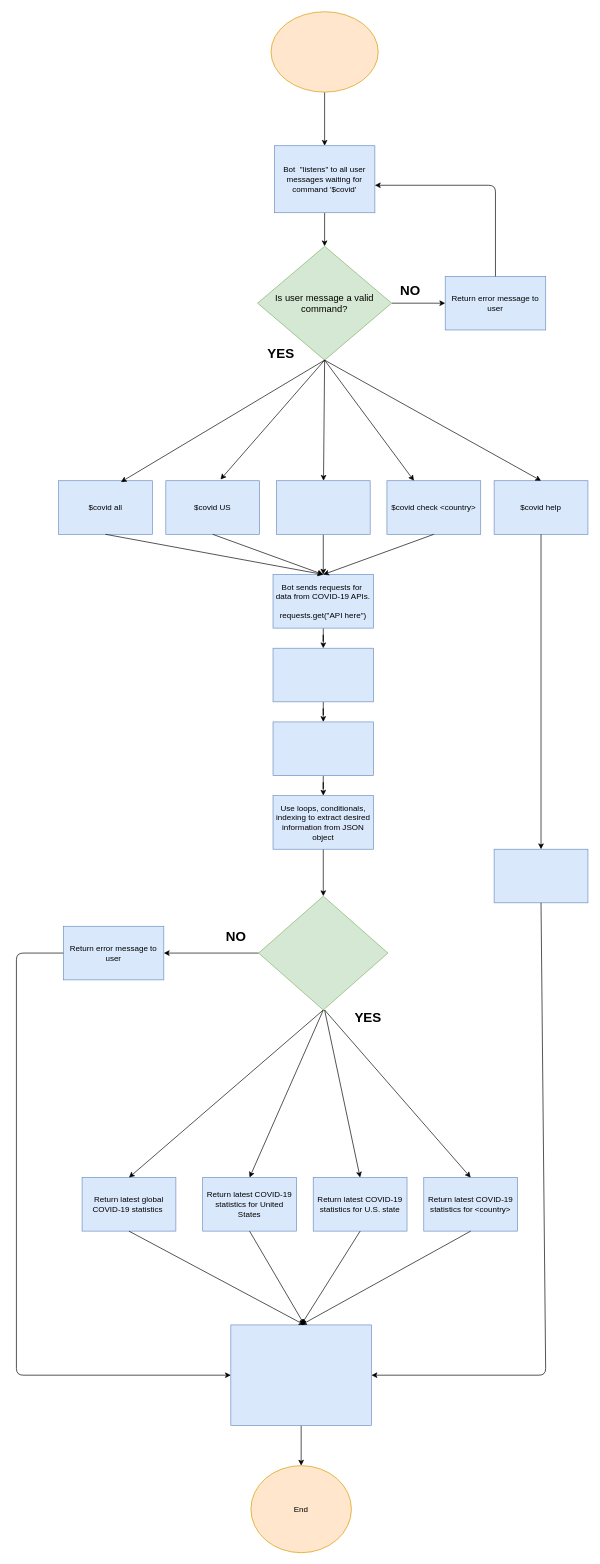
Image size: 600x1564. Some labels were removed from this diagram. Each missing label, with the centre of its shape:
$covid US <state>: [323,507]
Bot continues to "listen" to user messages waiting for '$covid' commands: [301,1374]
Bot retrieves information in JSON format.: [323,675]
Is data found?: [323,952]
Load to dictionary: json.loads(API.text): [323,748]
Return user guide menu to server: [540,876]
Start: [324,51]
